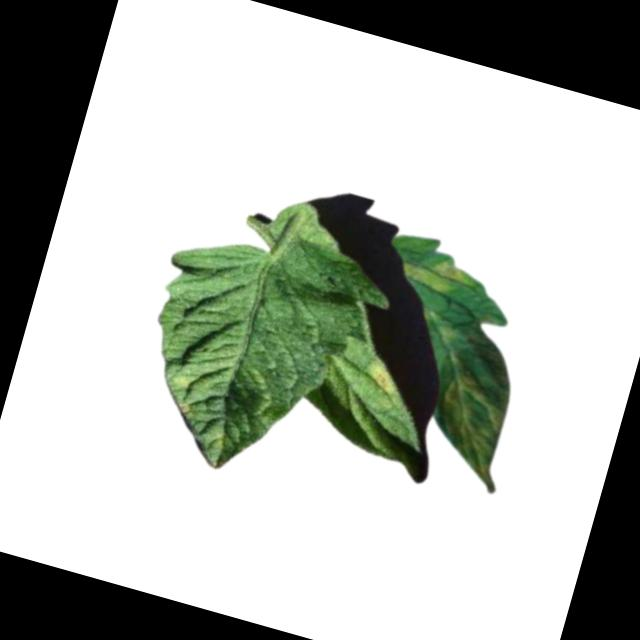Leaf_Mold: (419, 368, 524, 497), (396, 247, 481, 301), (160, 363, 205, 421), (355, 357, 405, 401)
